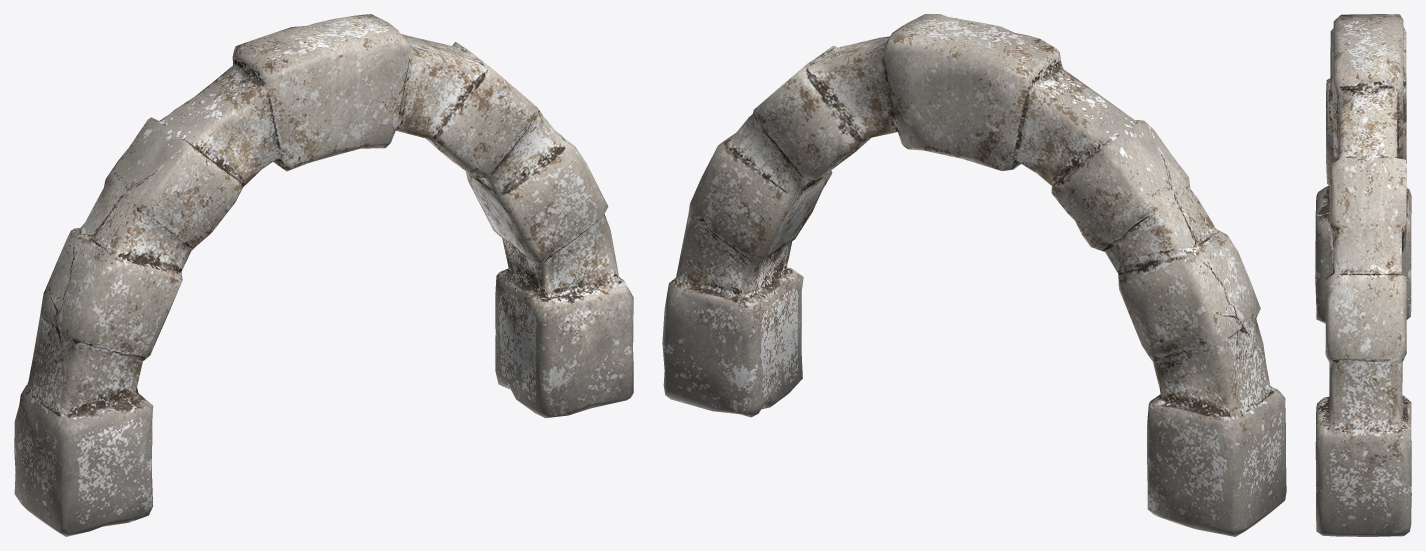
File: arch.glb
3 renders of one model, left to right at view 1: azimuth 30°, elevation 25°; view 2: azimuth 150°, elevation 25°; view 3: azimuth 270°, elevation 25°, orthographic. The views are drawn at different scales.
Visible parts, largest first — view 1: archway_3; view 2: archway_3; view 3: archway_3.
Part boxes in pixels (<box>): archway_3: <box>14,14,633,536</box>; archway_3: <box>662,14,1286,536</box>; archway_3: <box>1315,14,1411,536</box>.
Bounding box in the file's own units: 445 × 309 × 71.99.
Materials: 1 (1 with a texture image).
